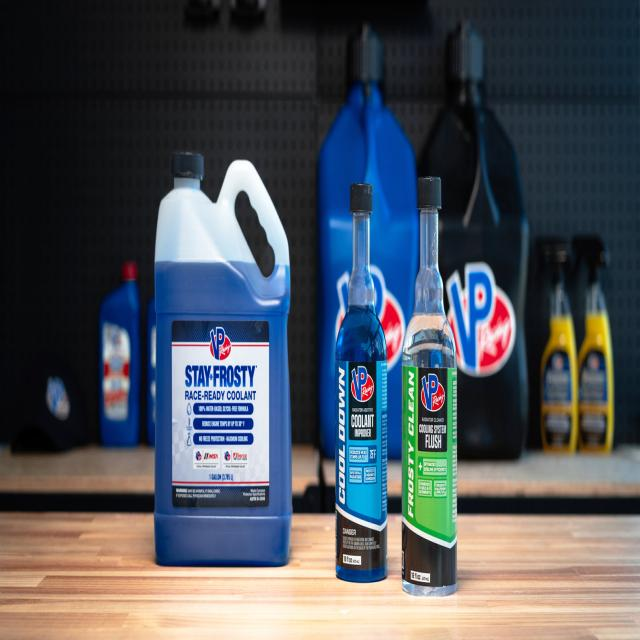coolant: (153, 146, 294, 564), (406, 172, 459, 598), (336, 182, 390, 591)
